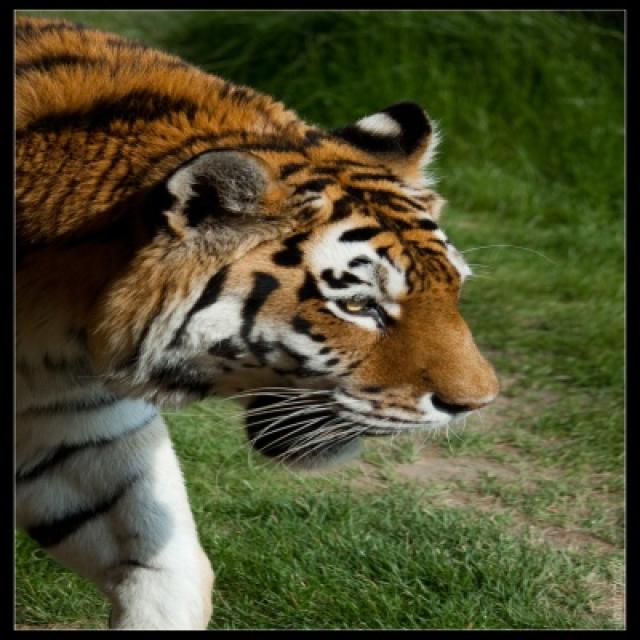Tiger: (17, 14, 496, 632)
